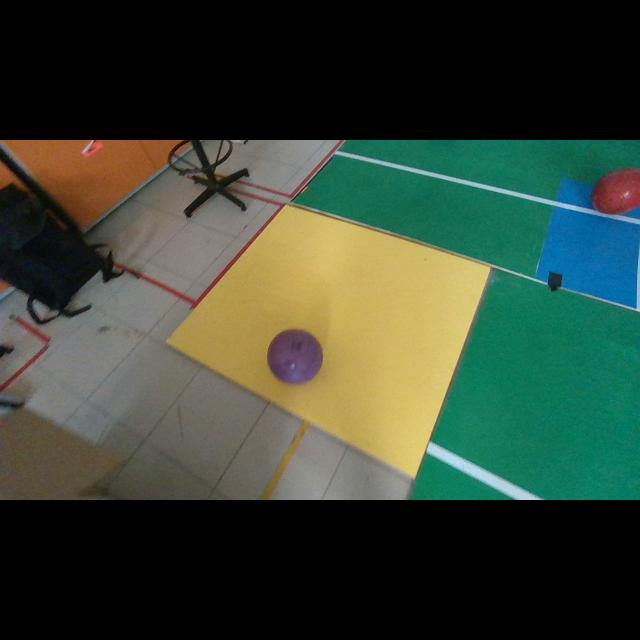P: (268, 329, 322, 384)
R: (591, 168, 640, 214)
